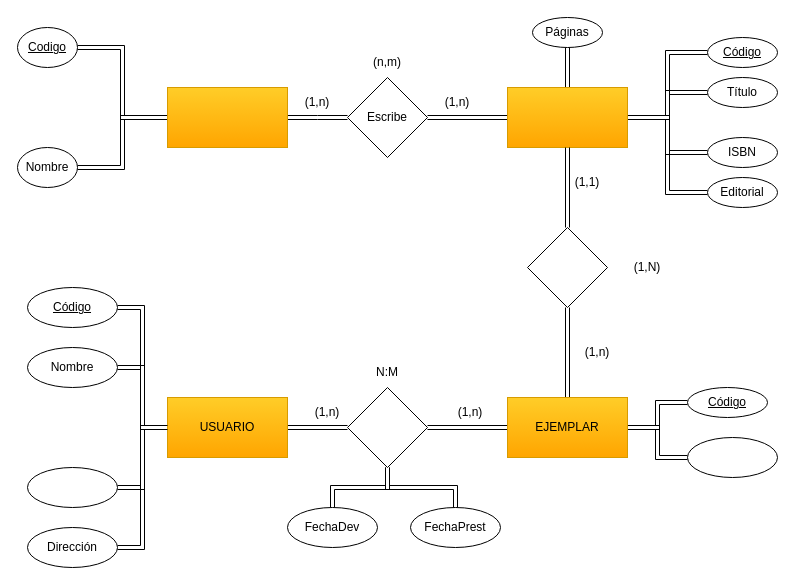
Image size: 795x585. Some labels were removed from this diagram. Here are the shapes that lost their labels. From the top down, the box of each, then its label:
(166, 86, 288, 148): AUTOR
(506, 86, 628, 148): LIBRO
(526, 226, 608, 308): Tiene
(346, 386, 428, 468): Saca
(686, 436, 778, 478): Localización
(26, 466, 118, 508): Telefono
